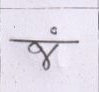anusvara: (51, 27, 57, 34)
